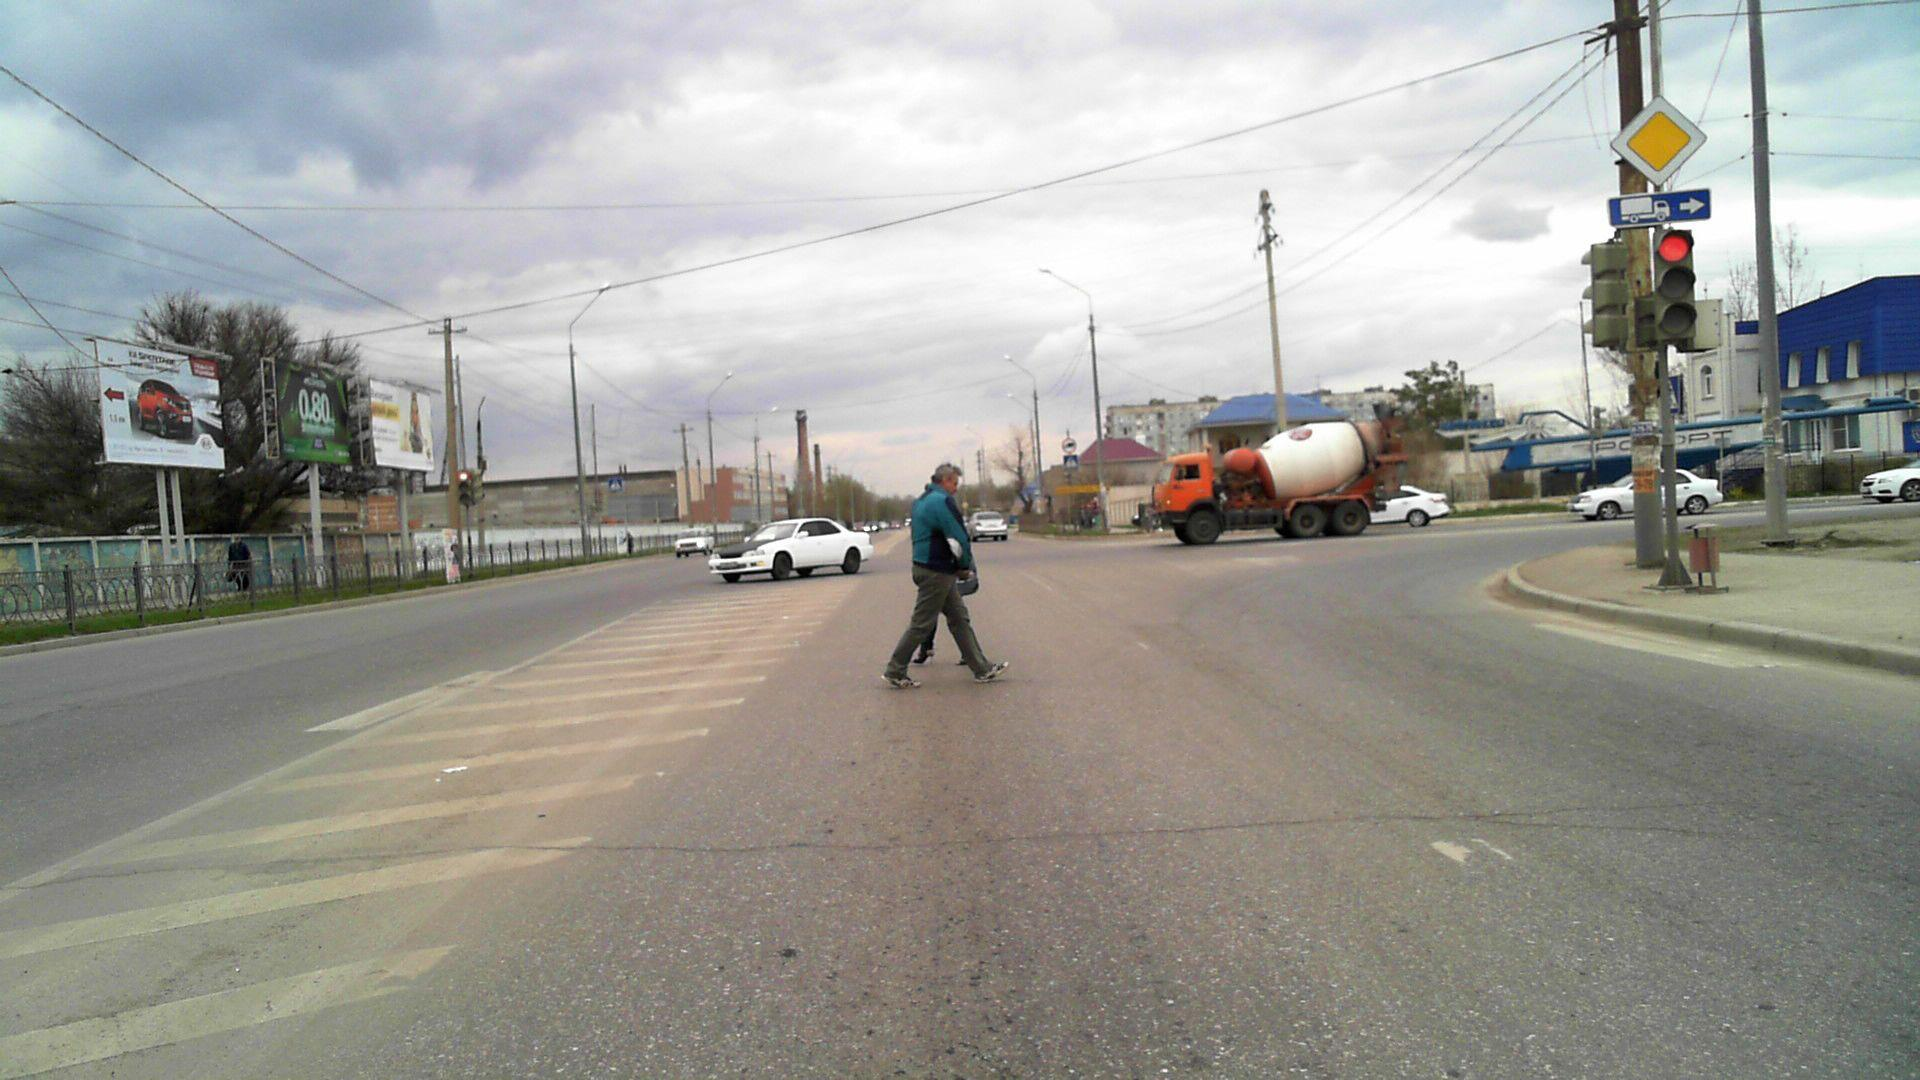2_1: (1607, 96, 1709, 184)
3_4: (1063, 437, 1078, 453)
5_19_1: (1063, 454, 1082, 471)
5_19_2: (607, 476, 621, 493)
6_15_2: (1606, 189, 1708, 224)
